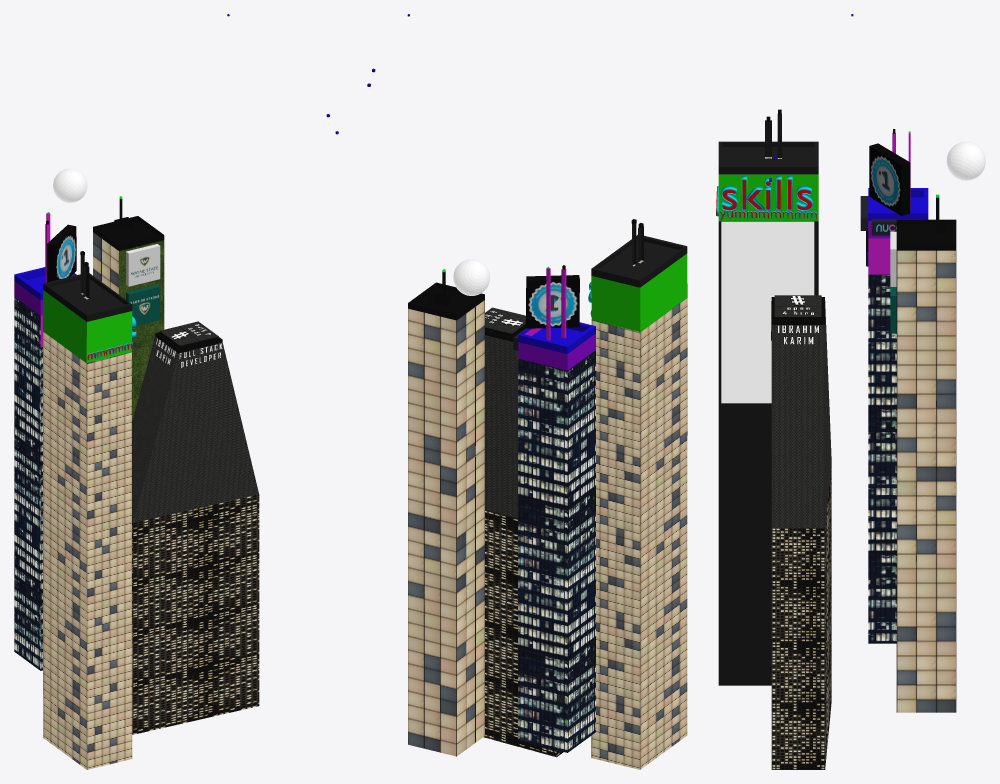
Rendered from landscape2.glb.
3 views of the same model, side by side, from view 1: azimuth 30°, elevation 25°; view 2: azimuth 150°, elevation 25°; view 3: azimuth 270°, elevation 25° (orthographic). The views are drawn at different scales.
Parts seen in each view (by area): view 1: ibrahimBuilding, skillsBuilding, nucampBuilding, wayneStateBuilding, nucampSign2, waneStateSign1, wayneStateSign2, Moon; view 2: skillsBuilding, wayneStateBuilding, nucampBuilding, ibrahimBuilding, nucampSign2, Moon; view 3: wayneStateBuilding, ibrahimBuilding, skillsBuilding, nucampBuilding, skillsFlavors, nucampSign2, Moon, skills, skills01, door2, door1.
Part boxes in pixels (x1,y1,x2,y2): ibrahimBuilding: [132, 332, 259, 734]; skillsBuilding: [43, 255, 132, 769]; nucampBuilding: [14, 213, 75, 670]; wayneStateBuilding: [93, 196, 164, 420]; nucampSign2: [47, 224, 76, 282]; waneStateSign1: [126, 244, 160, 286]; wayneStateSign2: [126, 284, 160, 325]; Moon: [53, 168, 87, 202]; skillsBuilding: [591, 224, 687, 769]; wayneStateBuilding: [408, 269, 484, 756]; nucampBuilding: [518, 267, 595, 752]; ibrahimBuilding: [483, 326, 563, 757]; nucampSign2: [525, 275, 579, 328]; Moon: [453, 259, 490, 295]; wayneStateBuilding: [896, 194, 956, 712]; ibrahimBuilding: [771, 297, 831, 769]; skillsBuilding: [718, 114, 818, 685]; nucampBuilding: [868, 132, 928, 643]; skillsFlavors: [721, 221, 814, 403]; nucampSign2: [869, 143, 910, 215]; Moon: [946, 141, 985, 180]; skills: [721, 176, 812, 211]; skills01: [722, 179, 811, 210]; door2: [774, 306, 821, 319]; door1: [774, 295, 821, 306].
Size of the model in its own units: 876 by 2030 by 654.
29 materials, 10 textured.
